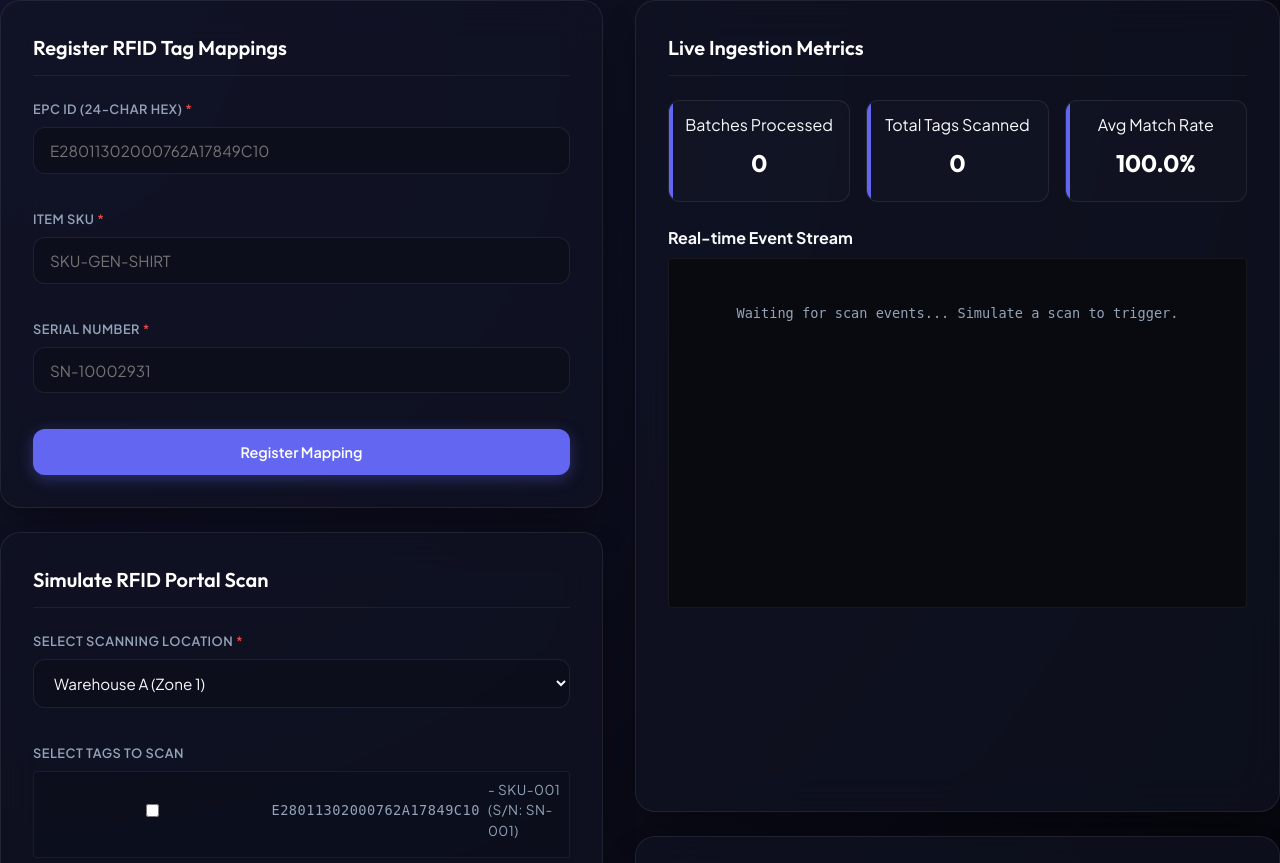
Test: RfidPanel › handles assigning a new RFID tag
The image size is (1280, 863).
Expected: the text "E28011302000762A17849C10" is shown, [272,800,480,821]
Step 1. Type "NEW-EPC-123" into the field with placeholder "E28011302000762A17849C10" → (302,150), box [33,127,570,174]
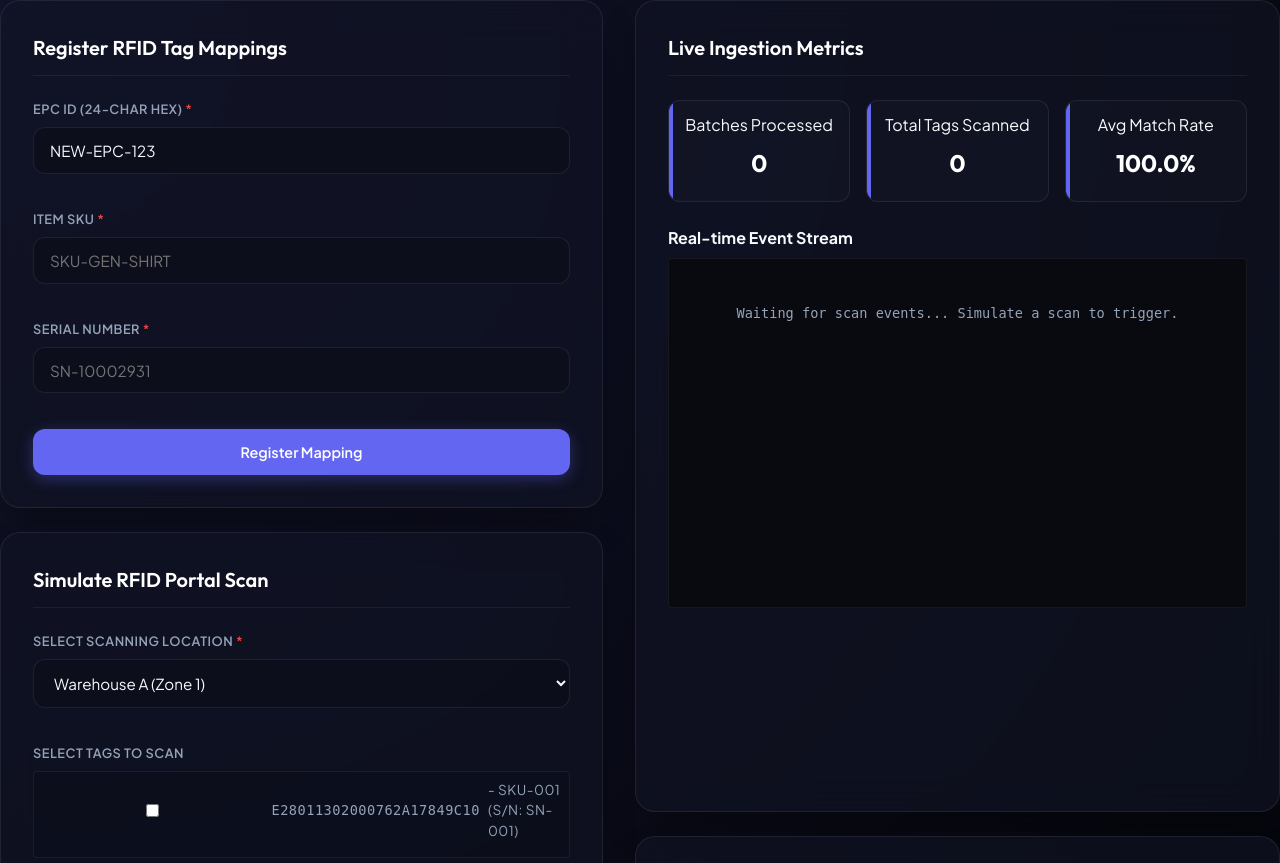
Step 2. Type "NEW-SKU-123" into the field with placeholder "SKU-GEN-SHIRT" → (302,260), box [33,237,570,284]
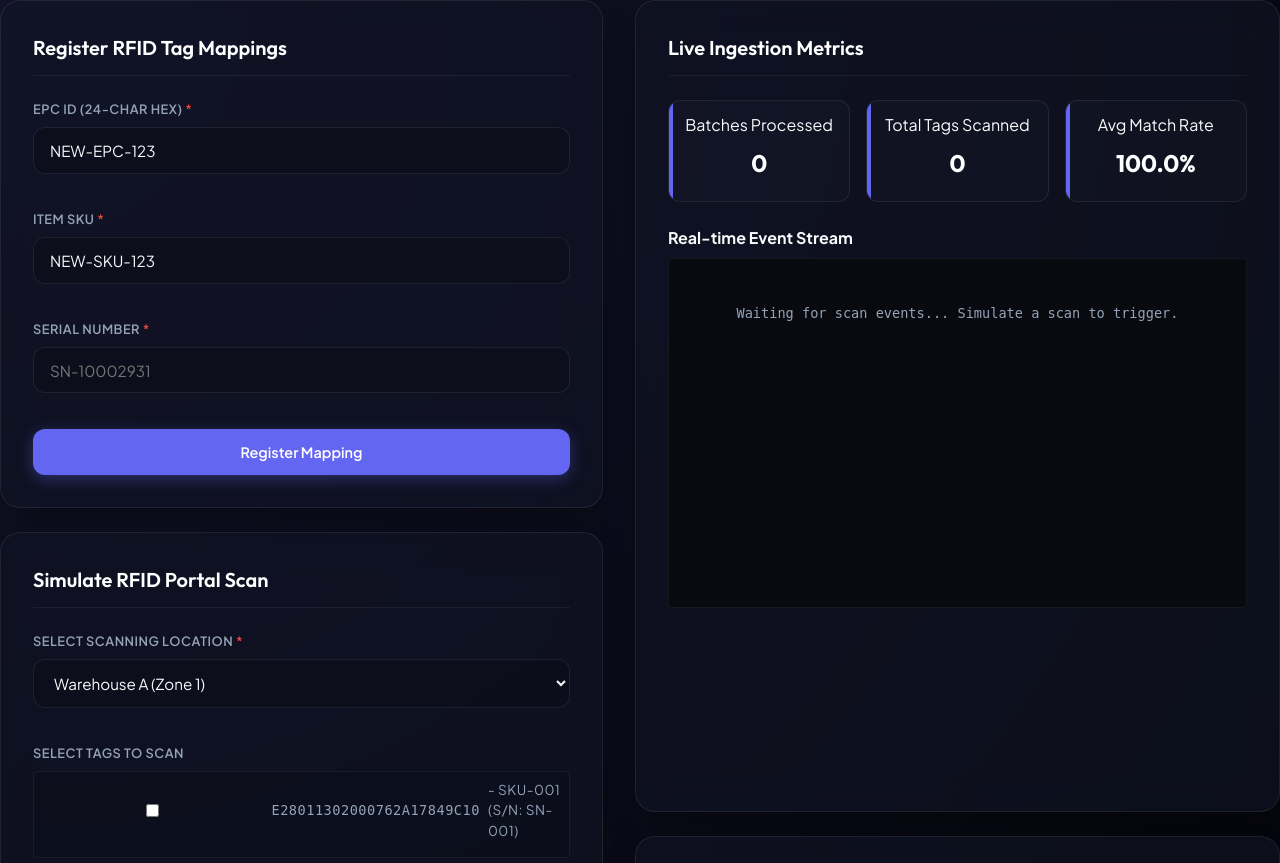
Step 3. Type "NEW-SN-123" into the field with placeholder "SN-10002931" → (302,370), box [33,347,570,393]
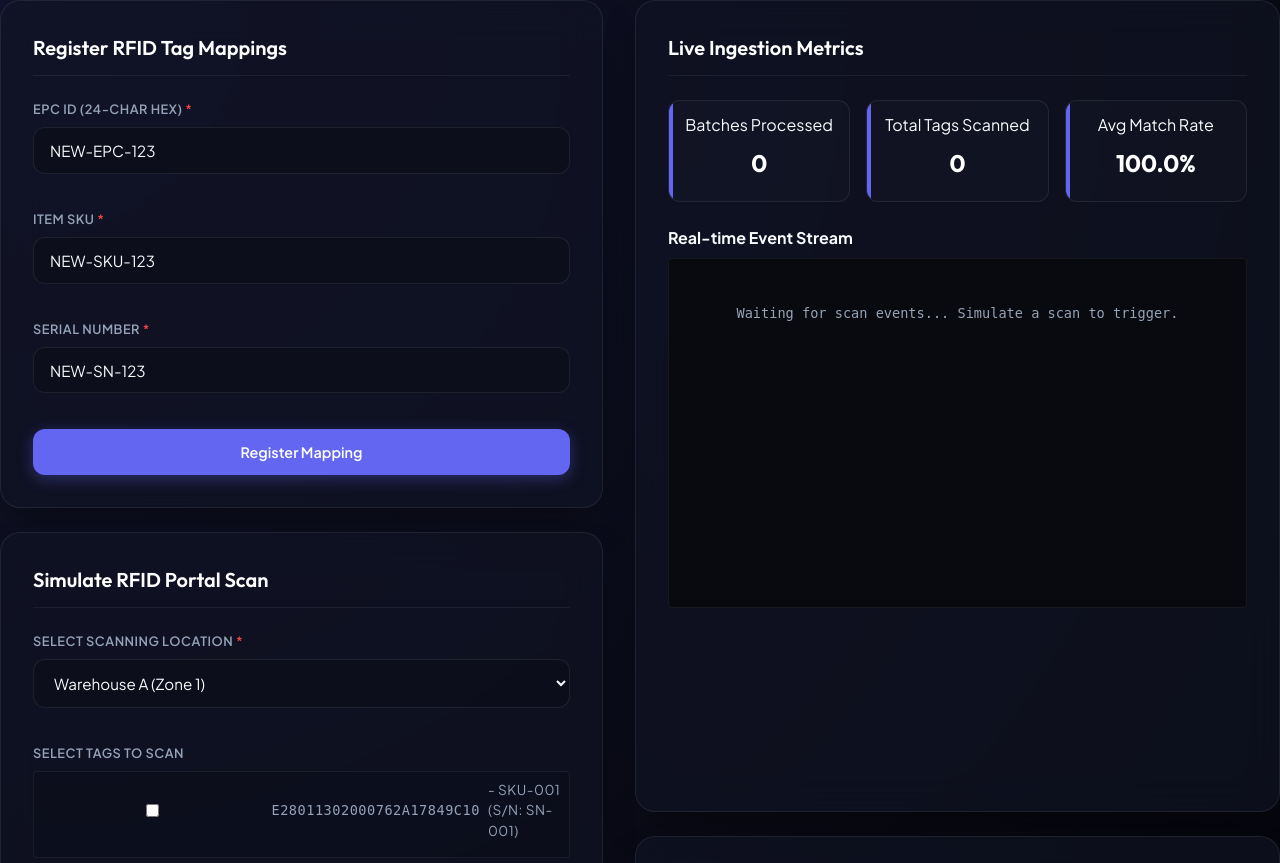
Step 4. Click the button "Register Mapping" → (302,452), box [33,429,570,475]
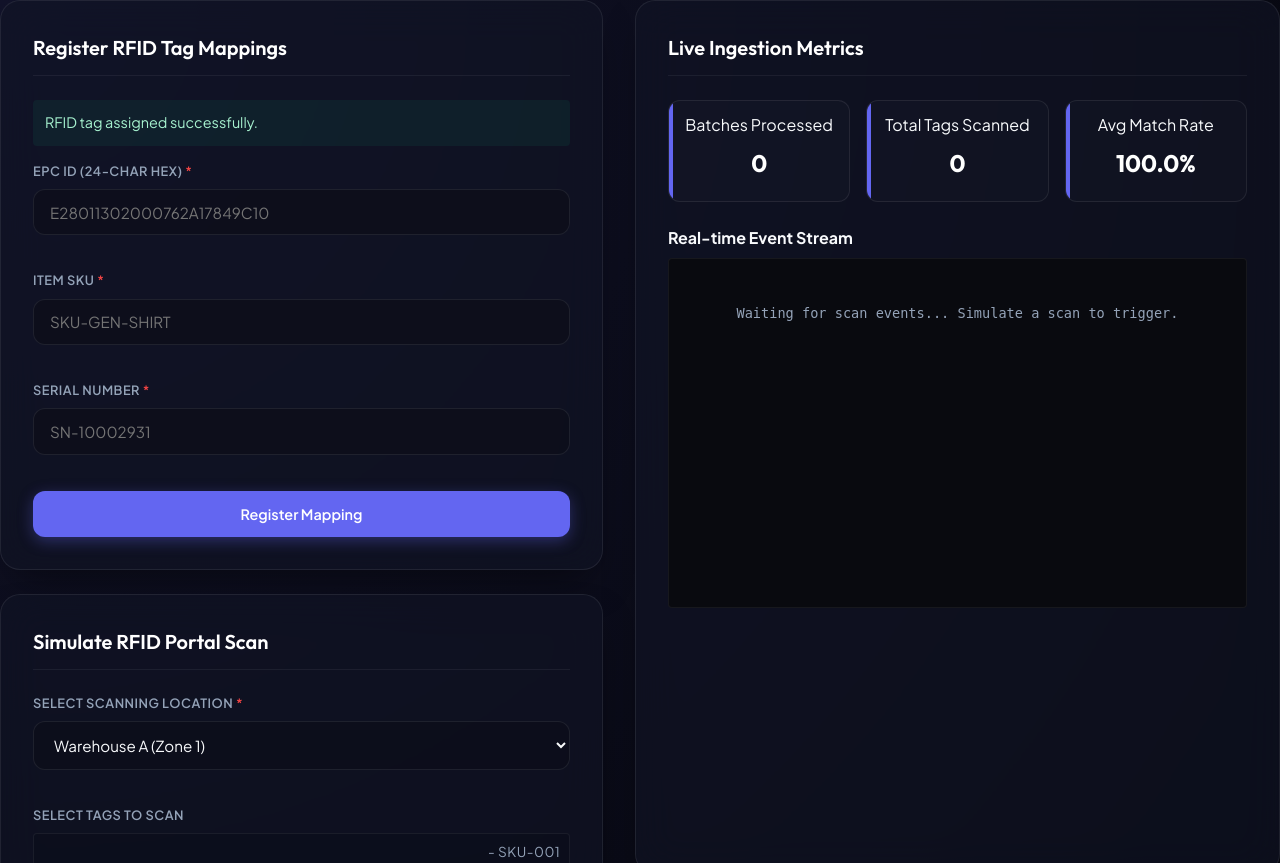
Now the text "RFID tag assigned successfully." is shown, box [33,100,570,146]
